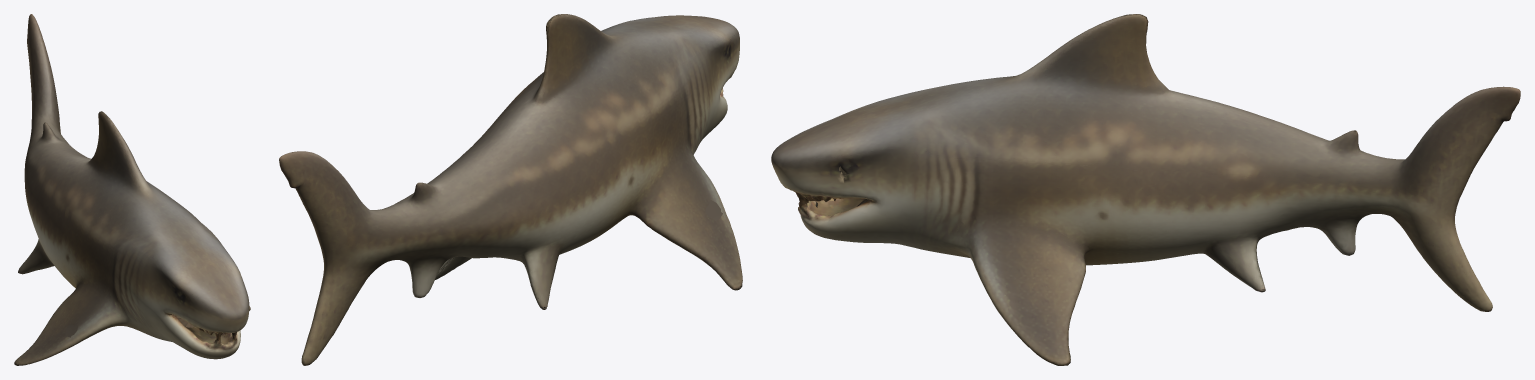
3 views of the same model, side by side, from view 1: azimuth 30°, elevation 25°; view 2: azimuth 150°, elevation 25°; view 3: azimuth 270°, elevation 25° (orthographic). The views are drawn at different scales.
Visible parts, largest first — view 1: world; view 2: world; view 3: world.
Part boxes in pixels (x1,y1,x2,y2): world: (14,14,250,365); world: (279,14,742,365); world: (771,14,1520,365).
Size of the model in its own units: 1.47 by 1.22 by 3.
Materials: 1 (1 with a texture image).
